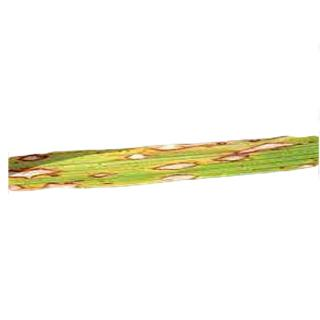Blast: (234, 142, 302, 154), (136, 142, 218, 151), (4, 165, 56, 179), (208, 152, 256, 164), (38, 181, 90, 189), (156, 174, 202, 182), (17, 155, 49, 166), (152, 163, 201, 170), (125, 151, 149, 165), (82, 170, 115, 178), (0, 182, 29, 190)
